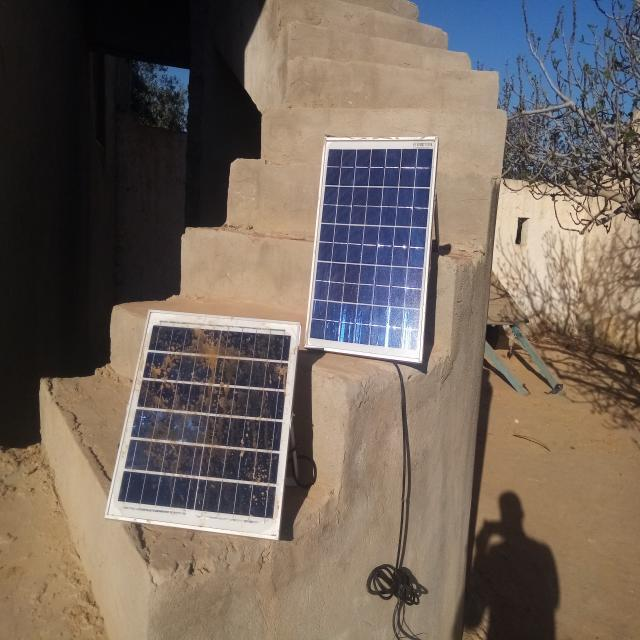faulty: (105, 313, 298, 537)
no faulty: (305, 137, 438, 363)
